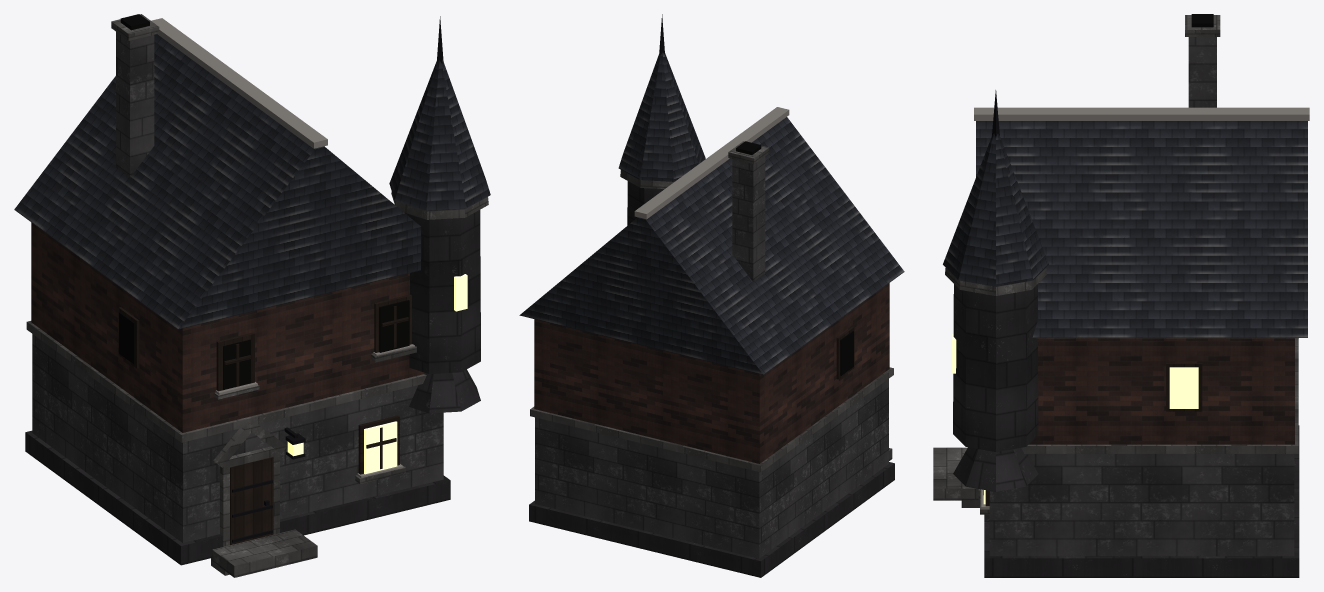
The model's file is CasaB13.gltf.
3 views of the same model, side by side, from view 1: azimuth 30°, elevation 25°; view 2: azimuth 150°, elevation 25°; view 3: azimuth 270°, elevation 25° (orthographic). The views are drawn at different scales.
Parts seen in each view (by area): view 1: CasaB13; view 2: CasaB13; view 3: CasaB13.
Boxes of the visible parts, <box> form: CasaB13: <box>14,14,490,577</box>; CasaB13: <box>519,14,904,577</box>; CasaB13: <box>933,14,1309,577</box>.
Bounding box in the file's own units: 9.28 × 13.72 × 9.41.
Materials: 10 (6 with a texture image).
